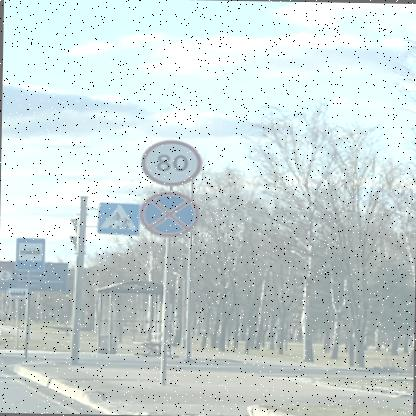crosswalk: (94, 200, 140, 233)
speedlimit: (138, 138, 200, 186)
